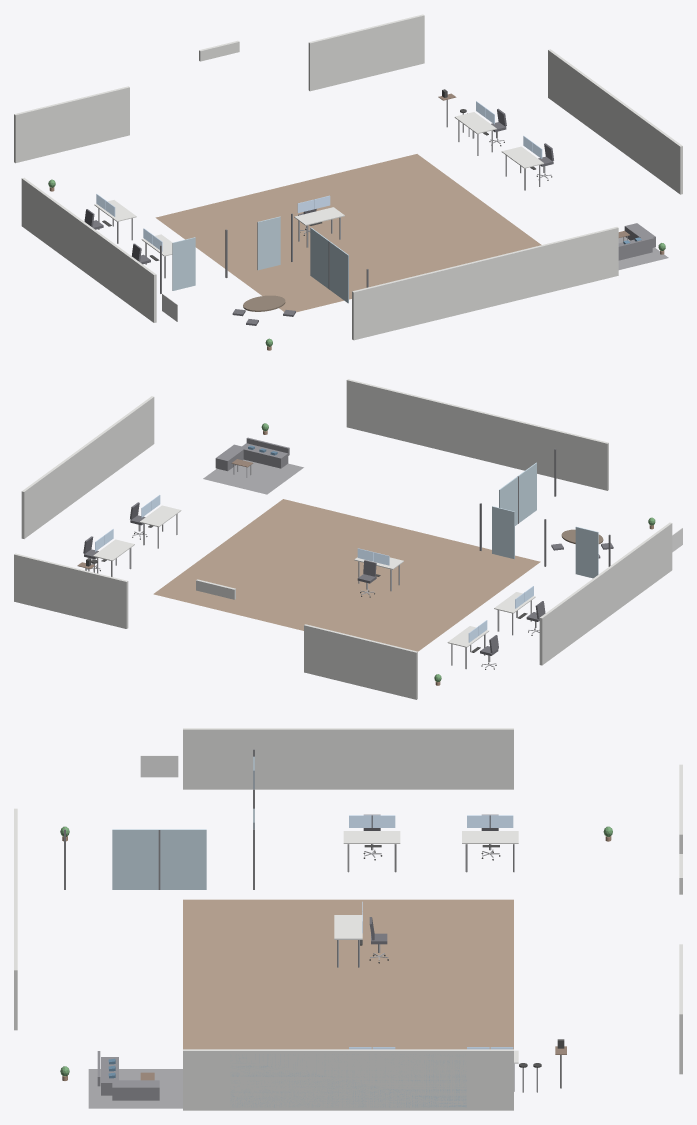
The model's file is office_v9.glb.
3 views of the same model, one above another, from view 1: azimuth 30°, elevation 25°; view 2: azimuth 150°, elevation 25°; view 3: azimuth 270°, elevation 25° (orthographic). The views are drawn at different scales.
Parts seen in each view (by area): view 1: Floor, Back_Wall, Left_Wall, Right_Wall, Front_Wall_Right, Front_Wall_Left, Meeting_Glass_R, Meeting_Glass_FL, Meeting_Glass_FR, Meeting_Table, Carpet, Desktop_3; view 2: Floor, Back_Wall, Right_Wall, Left_Wall, Front_Wall_Right, Front_Wall_Left, Carpet, Meeting_Glass_R, Meeting_Glass_FL, Meeting_Glass_FR, Sofa_Main, Sofa_Side (+1 smaller); view 3: Floor, Right_Wall, Left_Wall, Meeting_Glass_R, Window, Carpet, Sofa_Side, Cube.009, Back_Wall, Desktop_1, Desktop_2, Desktop_3.
Part boxes in pixels (box(x1,y1,x2,y2)): Floor: box(155, 154, 541, 312); Back_Wall: box(352, 227, 618, 340); Left_Wall: box(21, 177, 156, 322); Right_Wall: box(548, 49, 682, 194); Front_Wall_Right: box(308, 14, 424, 91); Front_Wall_Left: box(14, 86, 129, 163); Meeting_Glass_R: box(310, 227, 348, 303); Meeting_Glass_FL: box(172, 237, 195, 290); Meeting_Glass_FR: box(257, 216, 280, 270); Meeting_Table: box(243, 295, 285, 311); Carpet: box(618, 237, 668, 269); Desktop_3: box(294, 207, 344, 225); Floor: box(153, 499, 540, 651); Back_Wall: box(346, 379, 608, 490); Right_Wall: box(21, 396, 154, 538); Left_Wall: box(539, 522, 672, 665); Front_Wall_Right: box(14, 553, 128, 628); Front_Wall_Left: box(304, 624, 417, 699); Carpet: box(203, 459, 303, 494); Meeting_Glass_R: box(499, 462, 536, 525); Meeting_Glass_FL: box(575, 526, 598, 578); Meeting_Glass_FR: box(492, 506, 514, 559); Sofa_Main: box(240, 443, 288, 468); Sofa_Side: box(215, 444, 243, 471); Floor: box(183, 899, 513, 1049); Right_Wall: box(183, 1049, 513, 1110); Left_Wall: box(183, 728, 513, 789); Meeting_Glass_R: box(112, 829, 206, 889); Window: box(230, 1054, 466, 1107); Carpet: box(88, 1069, 182, 1108); Sofa_Side: box(112, 1080, 159, 1100); Cube.009: box(140, 755, 178, 777); Back_Wall: box(14, 808, 17, 1030); Desktop_1: box(343, 831, 400, 843); Desktop_2: box(462, 831, 518, 843); Desktop_3: box(334, 915, 362, 939).
Size of the model in its own units: 16.16 by 2.65 by 14.16.
